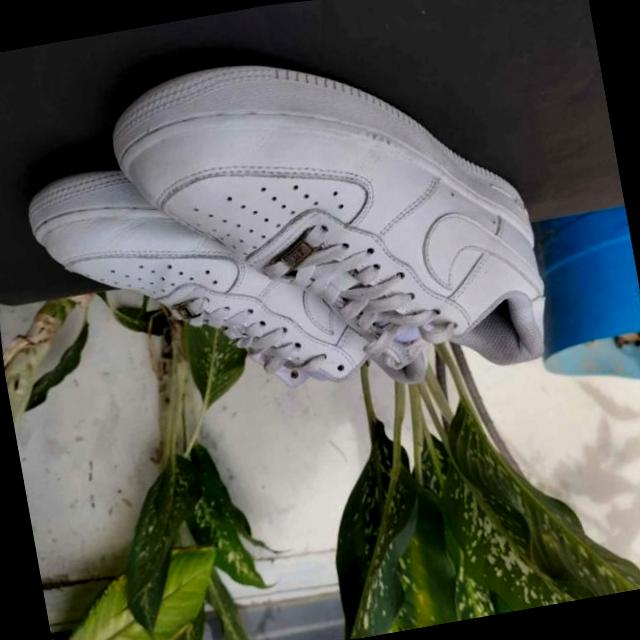nike_original_airforce: (77, 1, 576, 437), (5, 109, 448, 448)
